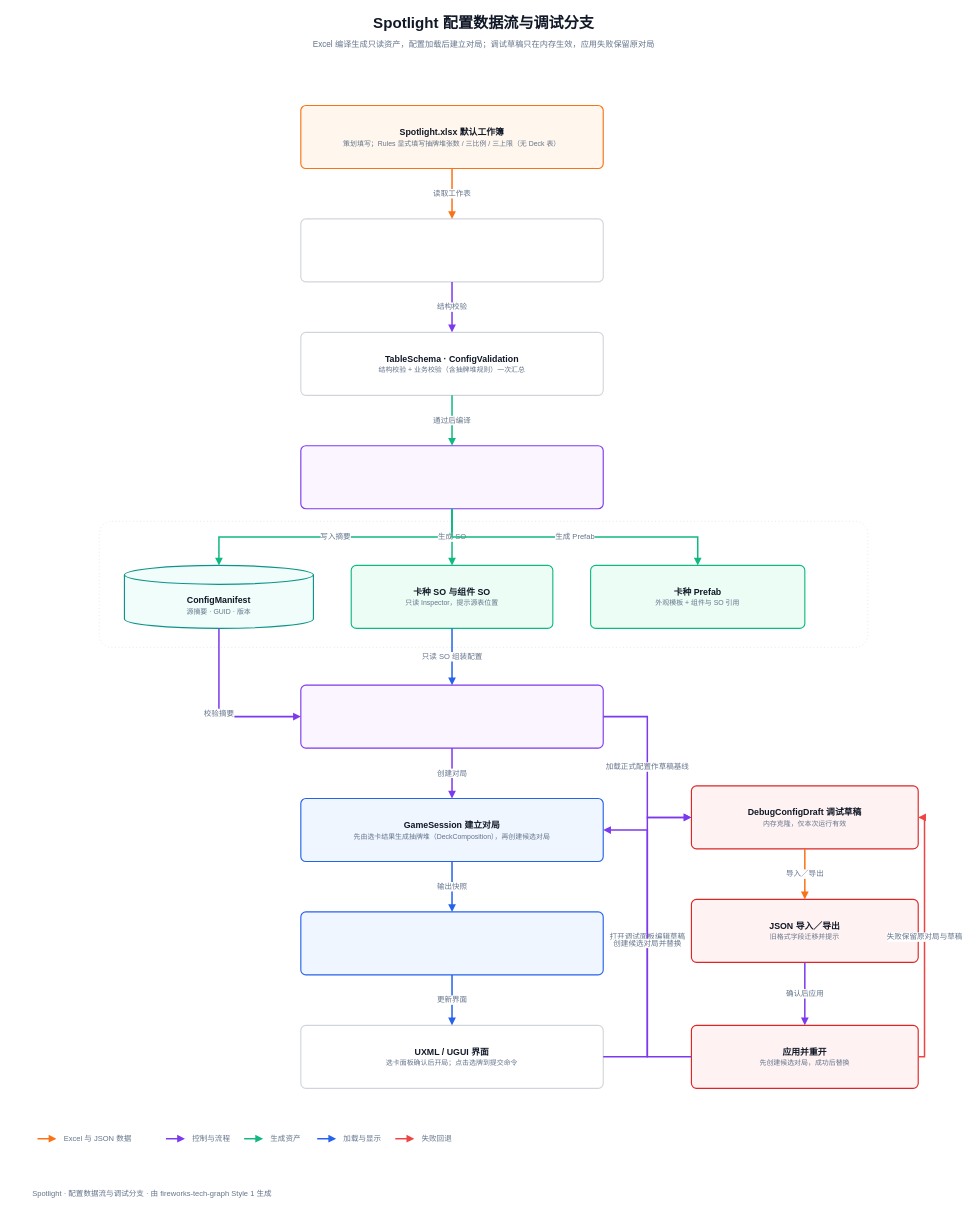
The diagram is 973 pixels wide and 1212 high, and some of its shapes have lost their labels. The shapes that lost their labels are listed below. From the top down, each one's box as (x1, y1, x2, y2) in pixels, then its label:
(300, 218, 603, 282): WorkbookReader · XlsxInspector 逐单元格读取并检查公式与合并
(300, 445, 603, 509): ConfigCompiler 构造 ConfigDocument 并生成资产
(98, 521, 868, 647): 生成资产 Assets/Spotlight/Generated · 只读产物，不要手工修改
(300, 684, 603, 748): ConfigLoader 配置加载 校验源摘要与生成配置
(300, 911, 603, 975): GetSnapshot 只读快照 手牌 · 棋盘 · 日志 · 兵位计时
